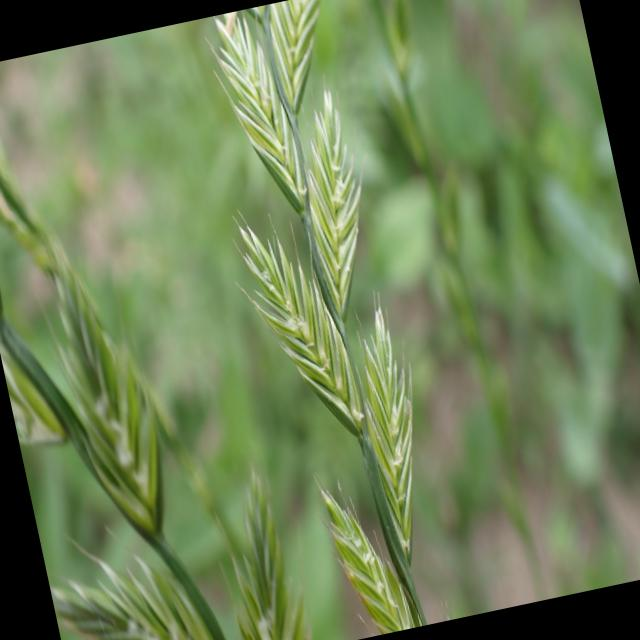Lolium: (180, 0, 465, 640)
